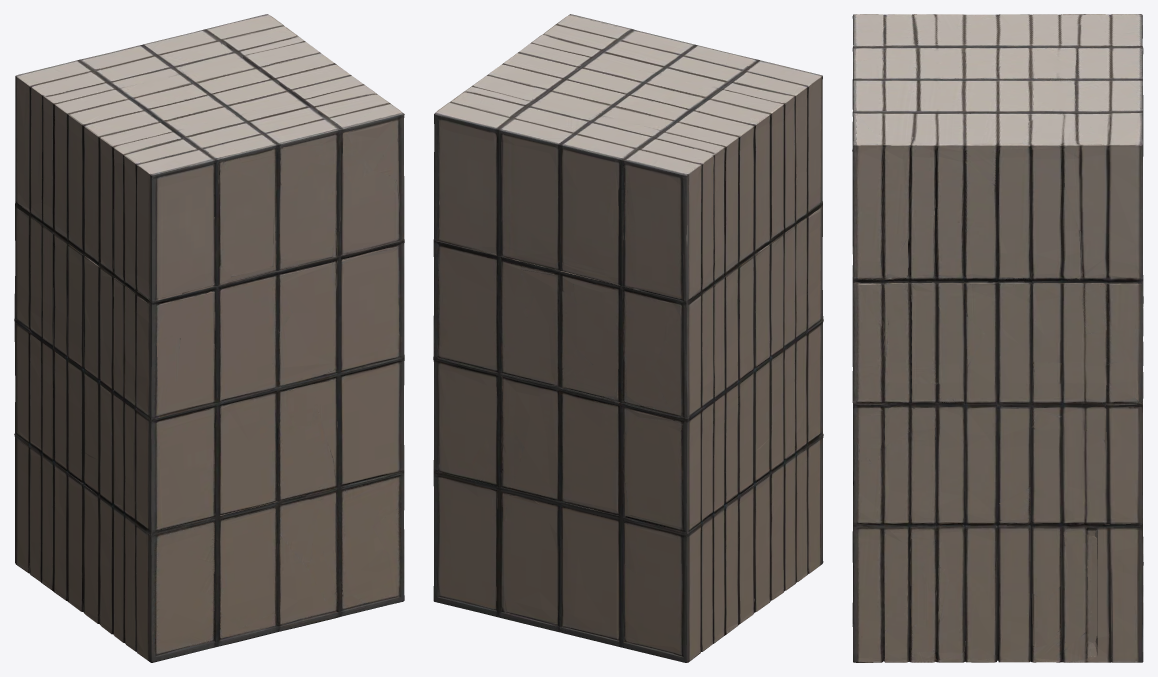
3 renders of one model, left to right at view 1: azimuth 30°, elevation 25°; view 2: azimuth 150°, elevation 25°; view 3: azimuth 270°, elevation 25°, orthographic. The views are drawn at different scales.
Parts seen in each view (by area): view 1: world; view 2: world; view 3: world.
Part boxes in pixels (left/top/right/bottom): world: left=14, top=14, right=404, bottom=662; world: left=433, top=14, right=823, bottom=662; world: left=852, top=14, right=1143, bottom=662.
Bounding box in the file's own units: 0.5471 × 1 × 0.5099.
1 material, 1 textured.
